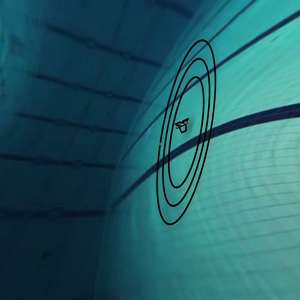circle: (144, 32, 223, 237)
submarine: (171, 108, 192, 145)
